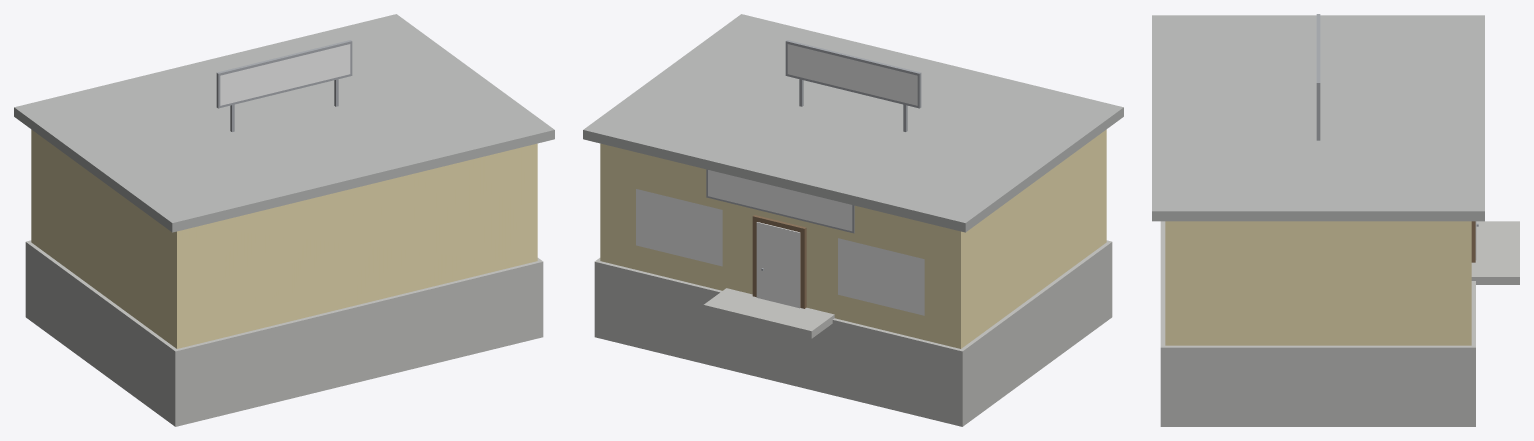
The model's file is shop_village.glb.
The picture shows the model from 3 angles, left to right: view 1: azimuth 30°, elevation 25°; view 2: azimuth 150°, elevation 25°; view 3: azimuth 270°, elevation 25°; orthographic projection. The views are drawn at different scales.
Parts seen in each view (by area): view 1: shop_village; view 2: shop_village; view 3: shop_village.
Boxes of the visible parts, x1,y1,x2,y2 form: shop_village: (14,14,554,426); shop_village: (583,14,1123,426); shop_village: (1152,14,1519,426).
Size of what is drawn, in the model's own units: 10.6 by 7.16 by 8.4.
